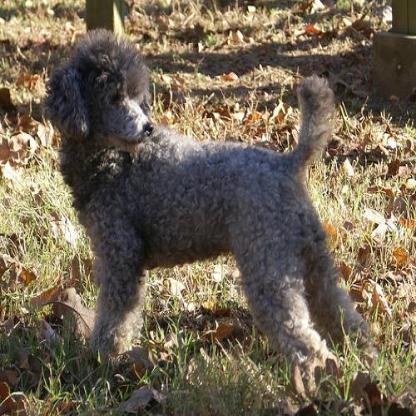miniature_poodle: (45, 28, 374, 371)
